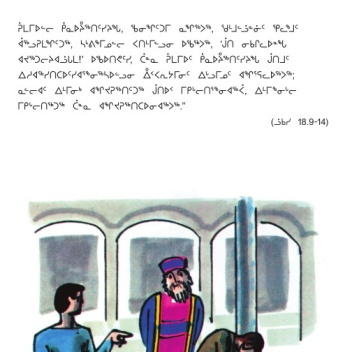inuktitut: (14, 17, 299, 36), (15, 52, 291, 68), (15, 36, 291, 51), (14, 82, 299, 96), (14, 67, 294, 81), (15, 96, 186, 113)
